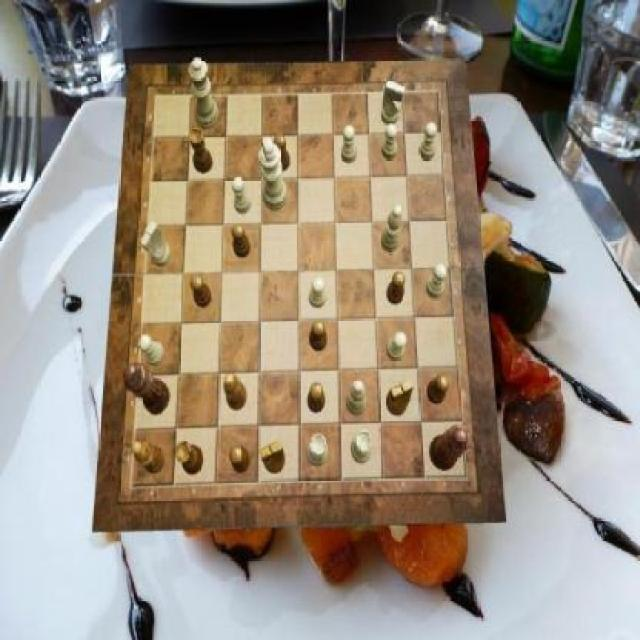bishop: (130, 442, 164, 476), (224, 372, 248, 410)
black-bishop: (123, 362, 171, 416)
black-king: (386, 379, 414, 416), (260, 439, 286, 473)
black-knight: (190, 276, 212, 310), (232, 223, 252, 258), (426, 376, 449, 404), (274, 134, 291, 171), (388, 270, 405, 304), (231, 446, 251, 474), (309, 322, 327, 352), (308, 382, 325, 412)
black-pawn: (429, 424, 472, 470)
black-queen: (189, 128, 213, 173), (177, 440, 205, 475)
black-rook: (381, 206, 404, 254), (346, 380, 367, 416)
white-bishop: (258, 135, 288, 210)
white-king: (140, 221, 171, 267), (382, 81, 406, 126)
white-knight: (140, 335, 166, 368), (426, 265, 449, 299), (232, 178, 252, 214), (419, 123, 436, 161), (342, 126, 358, 165), (382, 123, 398, 161), (386, 332, 407, 360), (309, 277, 327, 308)
white-pawn: (189, 59, 219, 130)
white-queen: (306, 434, 329, 468), (351, 429, 372, 464)
